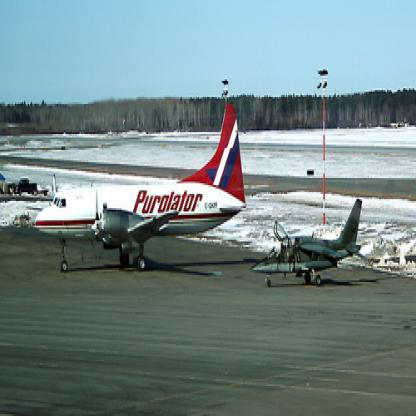aeroplane: (34, 102, 245, 273), (250, 196, 362, 287)
car: (11, 172, 37, 196)
